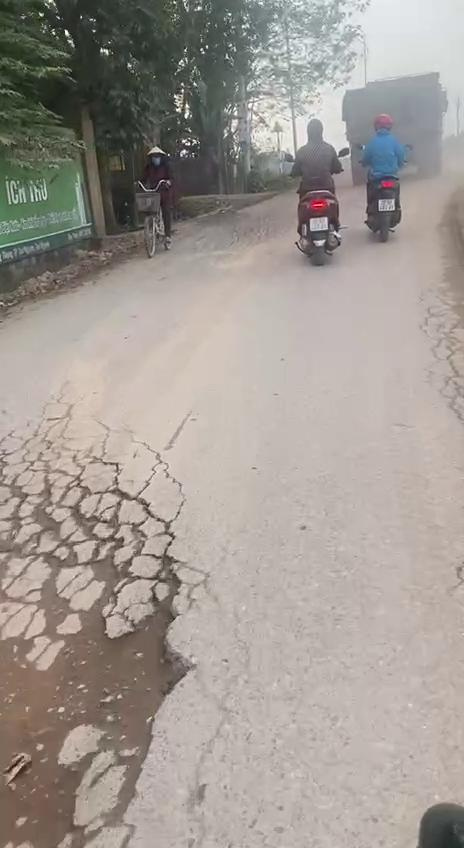pothole: (0, 437, 198, 848)
